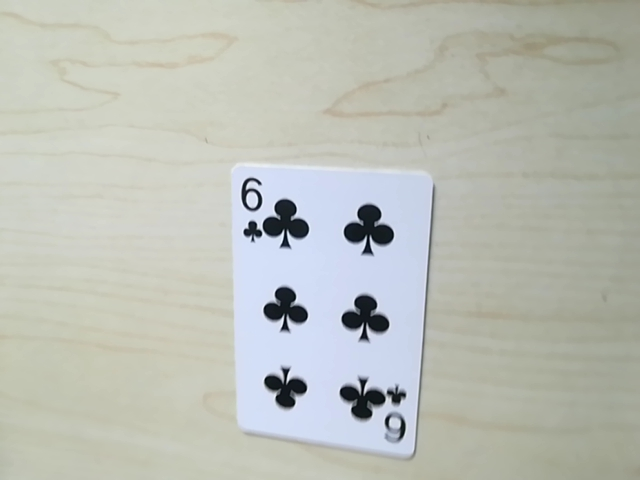mh 6: (234, 182, 279, 239), (370, 386, 409, 449)
